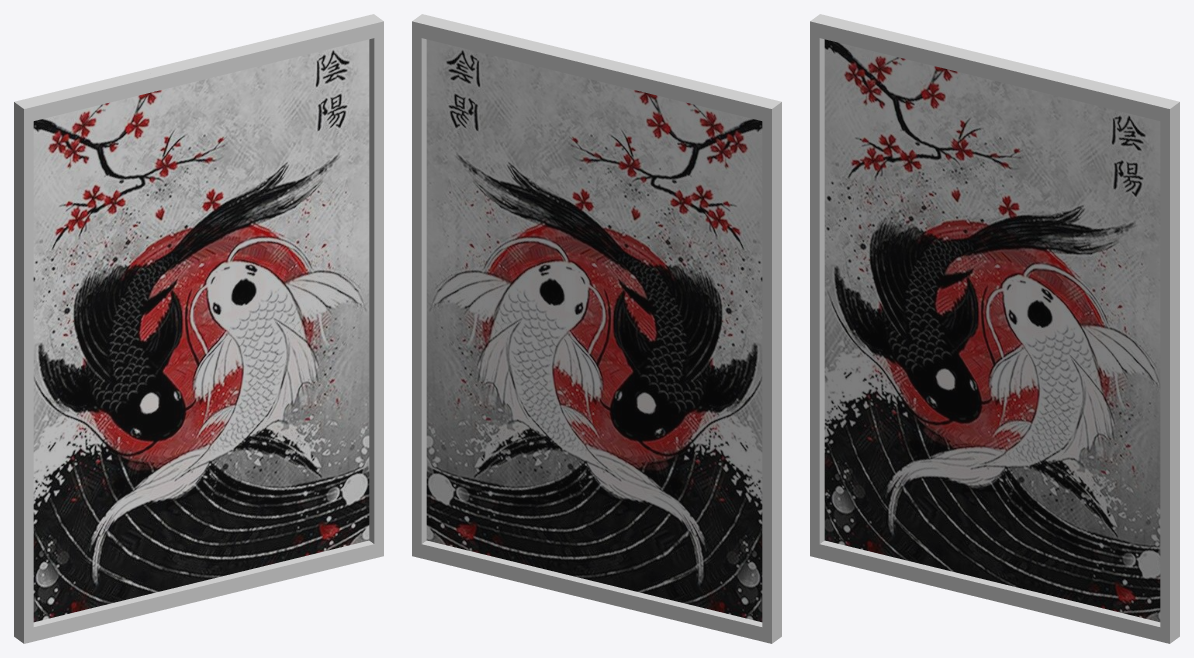
File: pict1.fbx
3 renders of one model, left to right at view 1: azimuth 30°, elevation 25°; view 2: azimuth 150°, elevation 25°; view 3: azimuth 330°, elevation 25°, orthographic.
Parts seen in each view (by area): view 1: картина; view 2: картина; view 3: картина.
Part boxes in pixels (left/top/right/bottom): картина: left=14, top=14, right=383, bottom=643; картина: left=412, top=14, right=781, bottom=643; картина: left=810, top=14, right=1179, bottom=643.
Size of the model in its own units: 0.537 by 0.7627 by 0.026.
